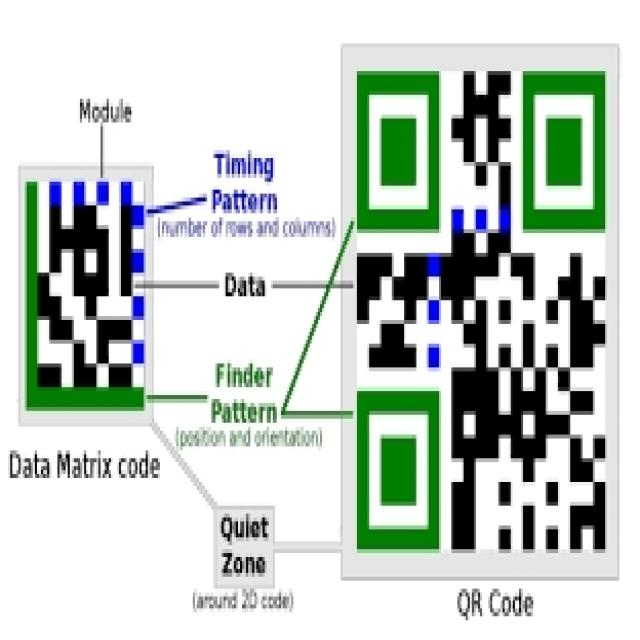datamatrix: (18, 166, 150, 423)
